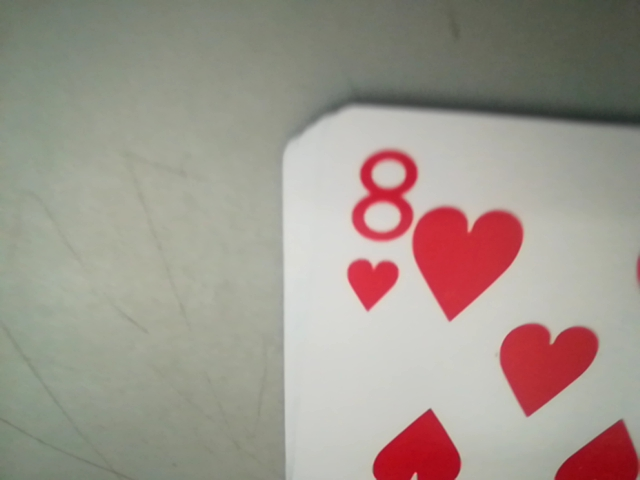hx 8: (343, 139, 416, 320)
